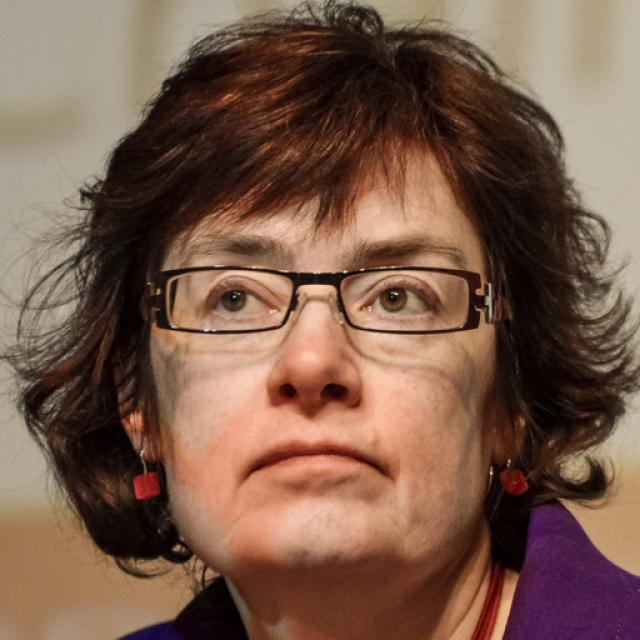neutral: (155, 128, 499, 572)
